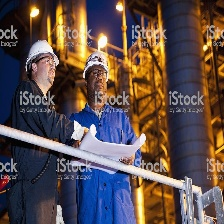helmet: (24, 39, 61, 74), (82, 49, 111, 81)
no-vest: (13, 78, 50, 134), (77, 103, 124, 146)
person: (74, 49, 136, 224), (11, 39, 63, 223)
